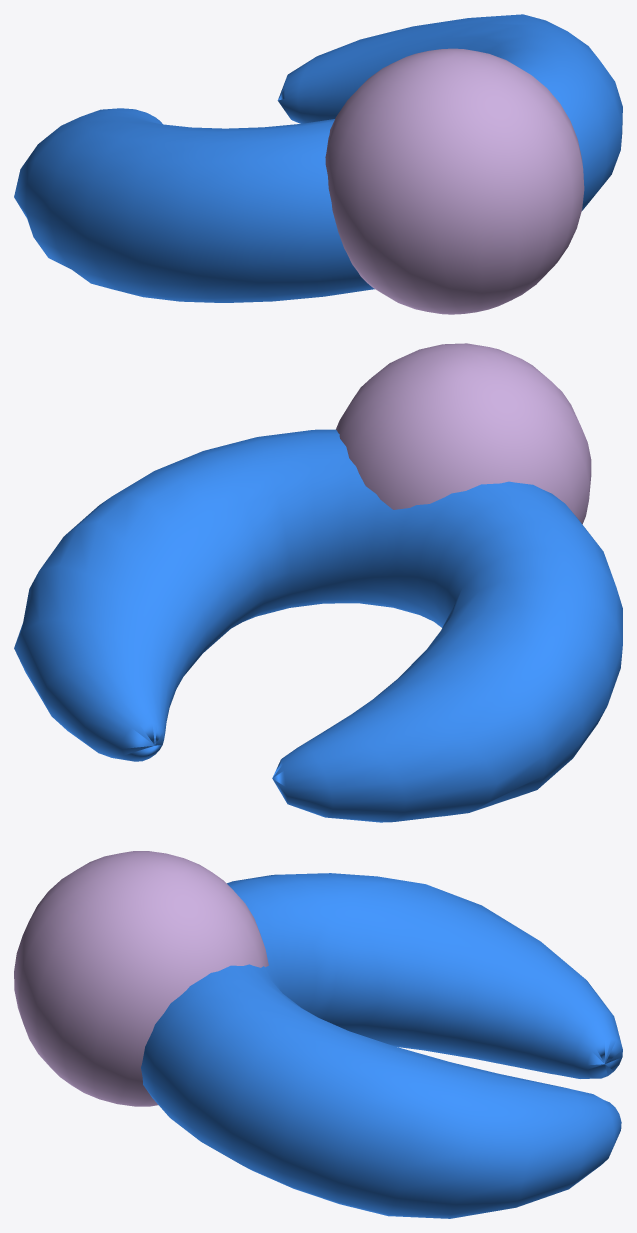
The model's file is Powerband.fbx.
3 views of the same model, one above another, from view 1: azimuth 30°, elevation 25°; view 2: azimuth 150°, elevation 25°; view 3: azimuth 270°, elevation 25° (orthographic). The views are drawn at different scales.
Parts seen in each view (by area): view 1: MagicHeadBand, CentralSphere; view 2: MagicHeadBand, CentralSphere; view 3: MagicHeadBand, CentralSphere.
Part boxes in pixels (box(x1,y1,x2,y2)): MagicHeadBand: box(14, 14, 622, 302); CentralSphere: box(325, 48, 584, 314); MagicHeadBand: box(14, 429, 622, 822); CentralSphere: box(336, 343, 591, 524); MagicHeadBand: box(141, 873, 622, 1218); CentralSphere: box(14, 851, 268, 1106).
Bounding box in the file's own units: 58.22 × 28.96 × 59.83.
